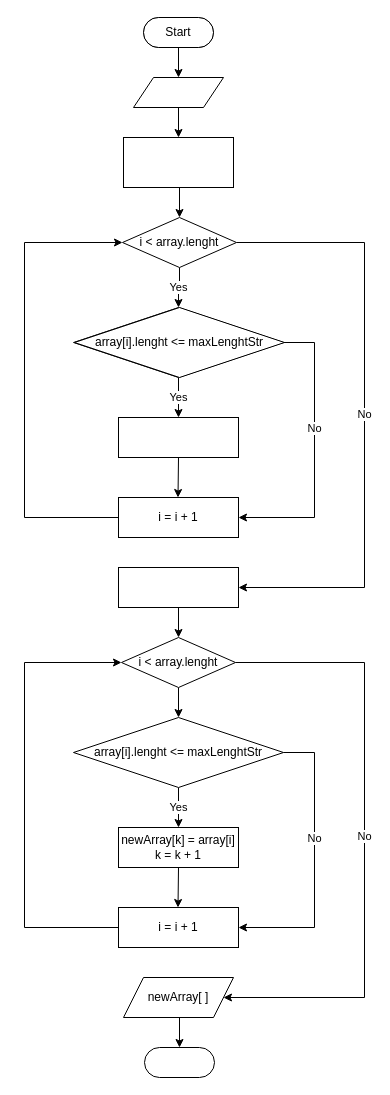
This 390x1095 diagram has some shape labels left out. Here are the shapes that lost their labels. From the top down, the centre of each, then its label:
At pixel 178 92: "array[ ]".
At pixel 178 162: "i = 0 k = 0 maxLenghtStr = 3".
At pixel 178 437: "k = k + 1".
At pixel 178 587: "newArray[ ] = new [k] k = 0 i = 0".
At pixel 179 1062: "End".
